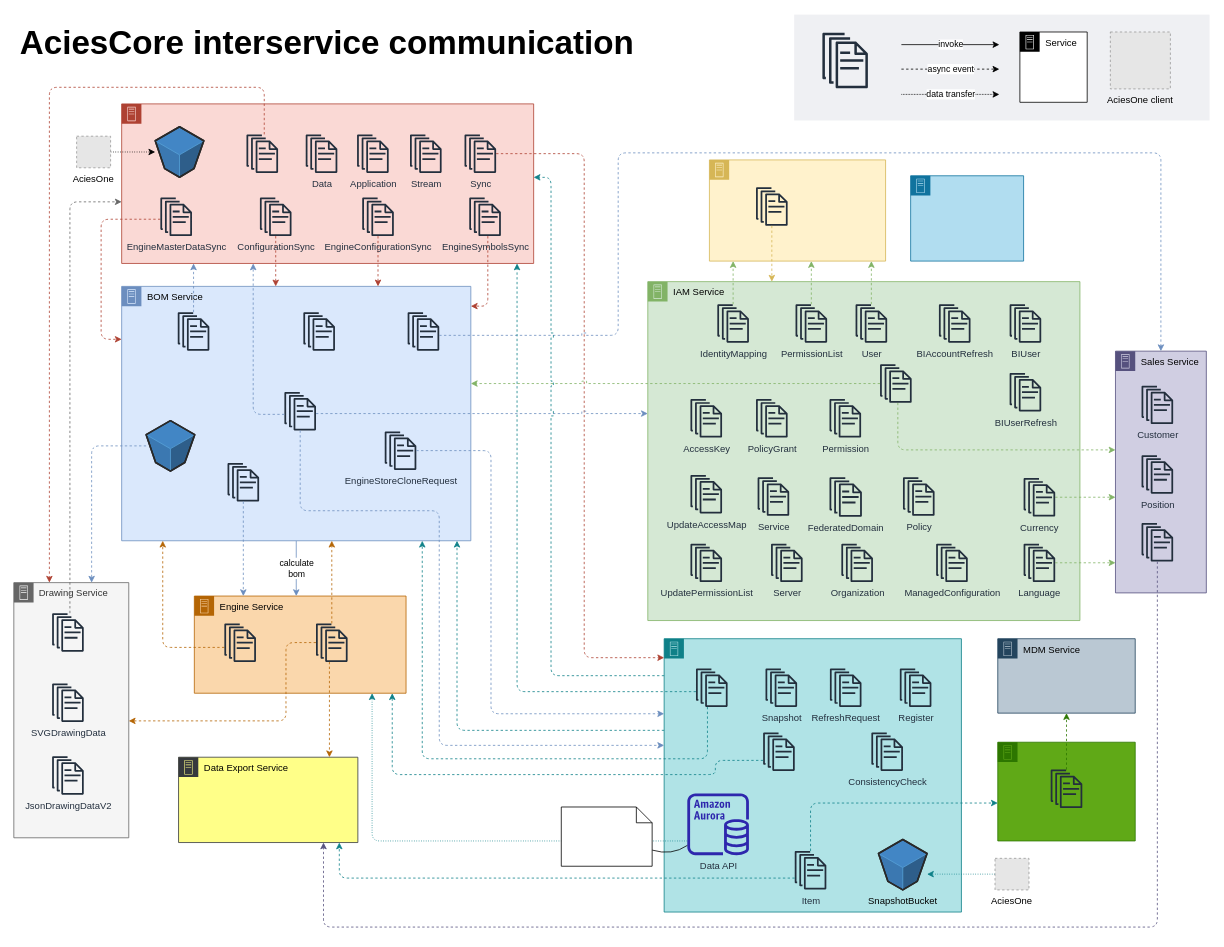
This 1224x947 diagram has some shape labels left out. Grey dashed boxes stand in for pictures. Here are the shapes that lost their labels. From the top down, the box of each, then its label:
(822, 32, 867, 88): SNS message
(154, 126, 204, 177): BulkBucket
(246, 134, 278, 173): SymbolsSync
(121, 103, 534, 263): Flow Service
(756, 186, 787, 226): UserIdentityMapping
(709, 159, 886, 261): Auth Service
(910, 175, 1024, 261): Insights Service
(177, 311, 209, 351): ConfigurationSyncResult
(303, 311, 335, 351): EngineCloneRequest
(407, 311, 439, 351): Calculation
(880, 363, 911, 403): Account
(284, 391, 316, 431): Engine
(145, 420, 195, 471): ResultBucket
(227, 462, 259, 502): CalculationRequest
(1141, 522, 1173, 562): Order
(52, 612, 83, 652): SymbolsSyncResult
(224, 623, 256, 662): CalculationStart
(316, 623, 347, 662): CalculationResult
(696, 668, 727, 707): Store
(763, 732, 794, 771): StoreChangeLogDetection
(663, 638, 961, 912): Master Data Service
(1050, 769, 1082, 808): TransformationVIPToCore
(997, 741, 1135, 841): Models Service
(561, 806, 652, 866): AciesOne BOM engines access master data directly via DataAPI
